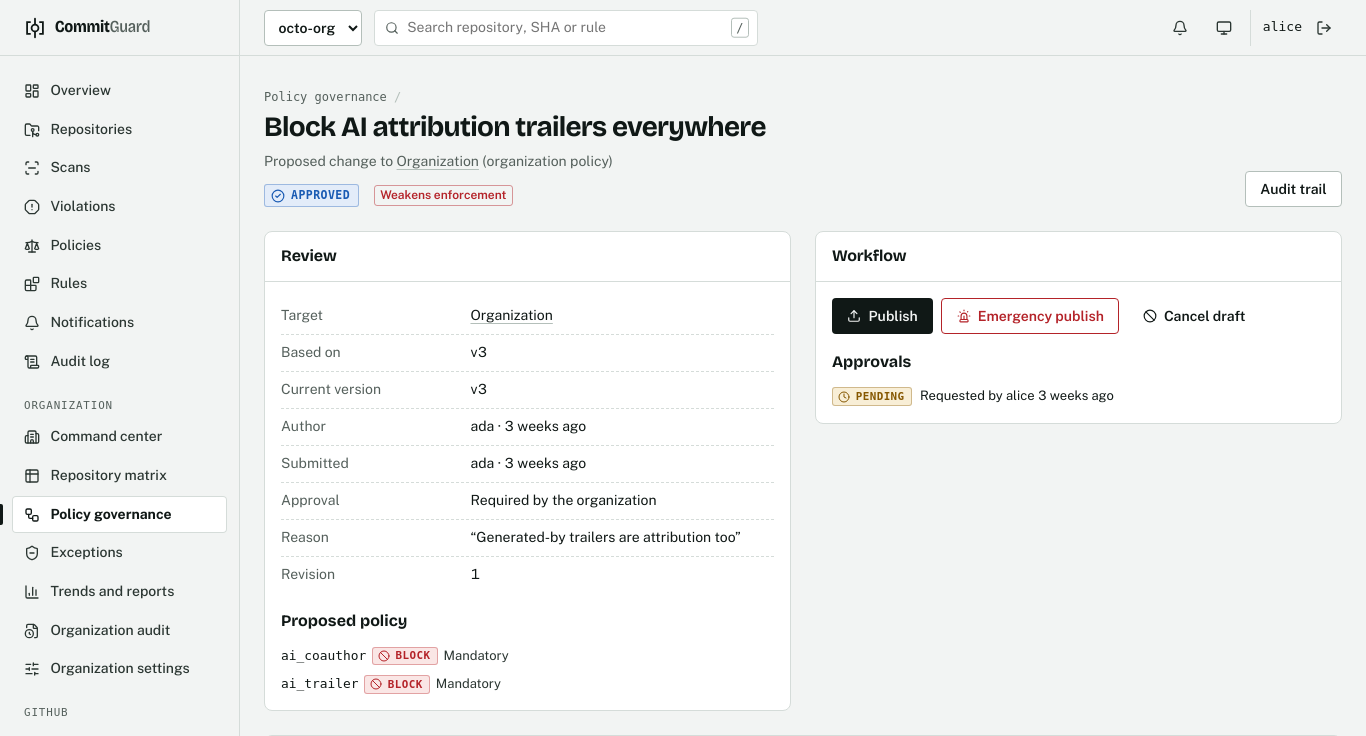
Scenario: policy draft review › requires explicit confirmation to publish a weakening change
Click the button "Publish". click: (883,316)
box: [832,298,933,334]
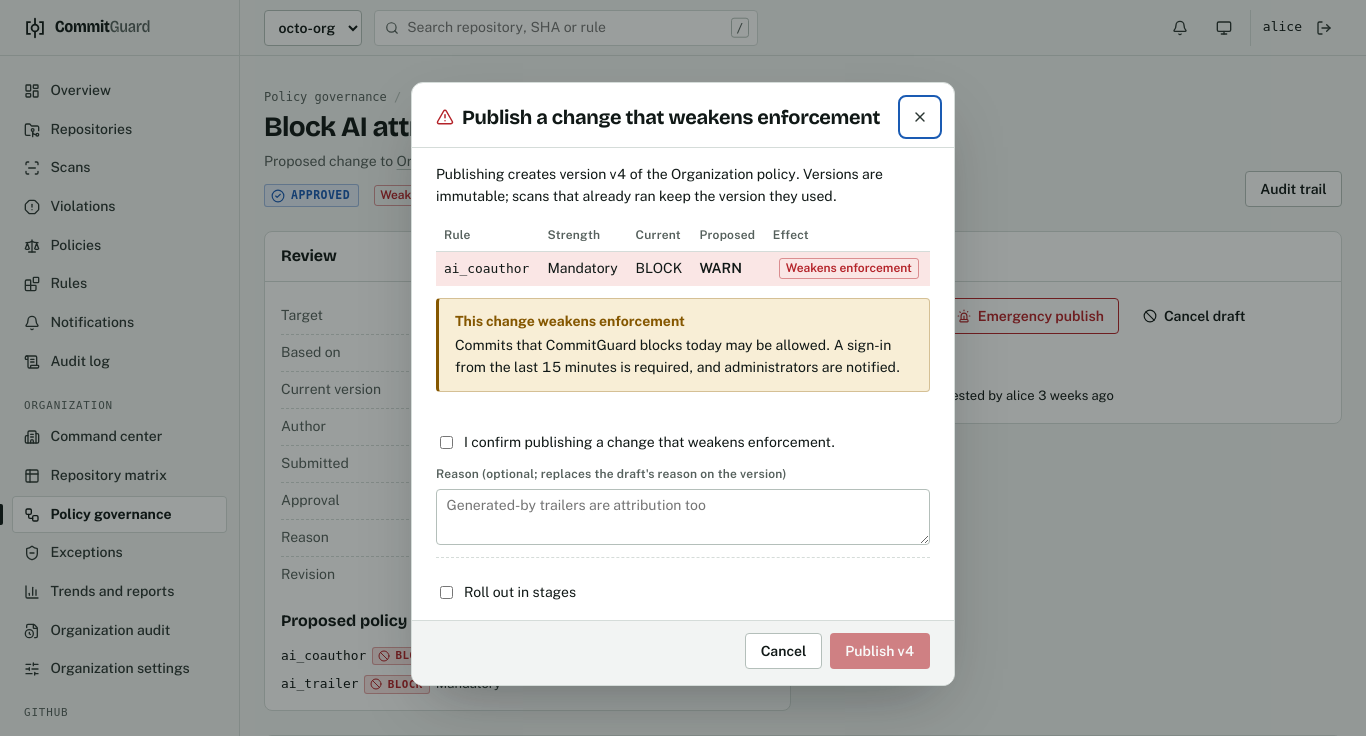
Expected: the text "Weakens enforcement" is shown, [779,258,918,279]
Expected: the button "Publish v4" is disabled, [830,633,930,669]
Click the checkbox labelled "I confirm publishing a change that weakens enforcement.". click: (446,442)
box: [440,436,453,449]
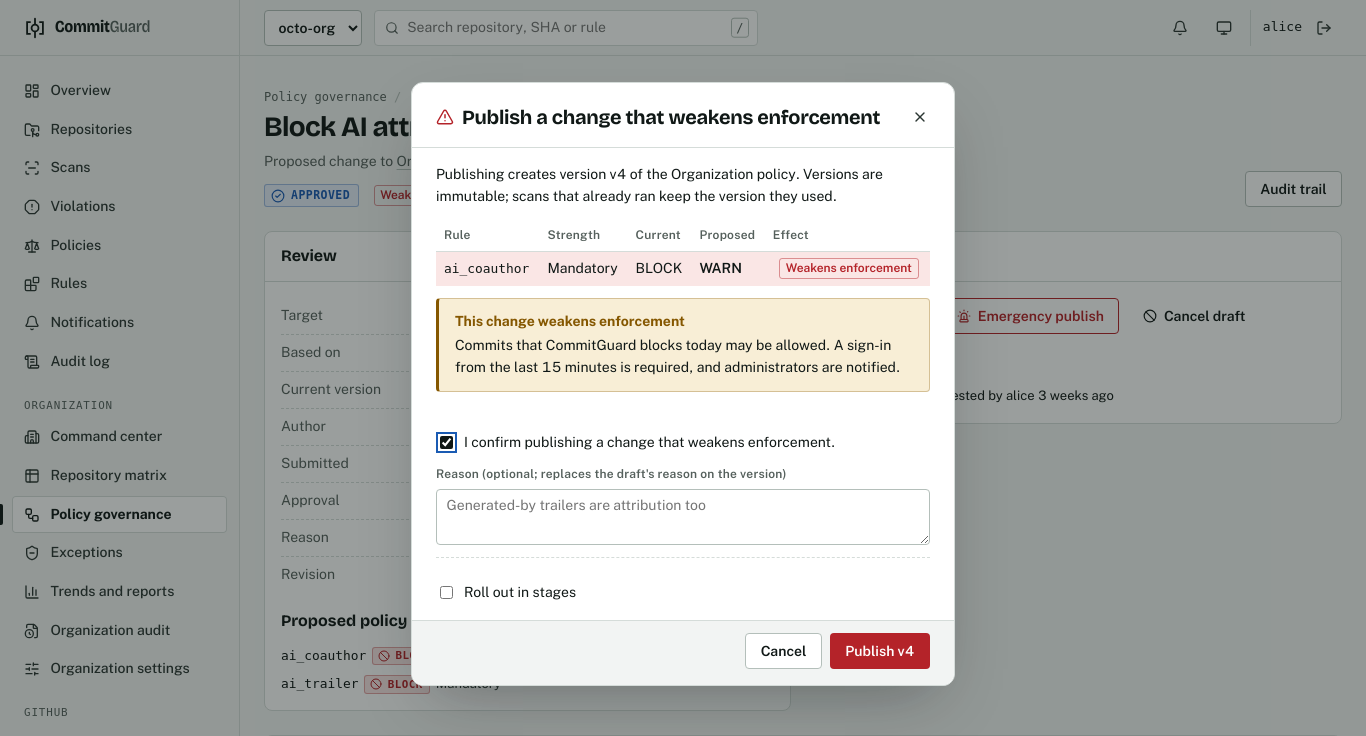
Click the button "Publish v4". click: (880,651)
box: [830,633,930,669]
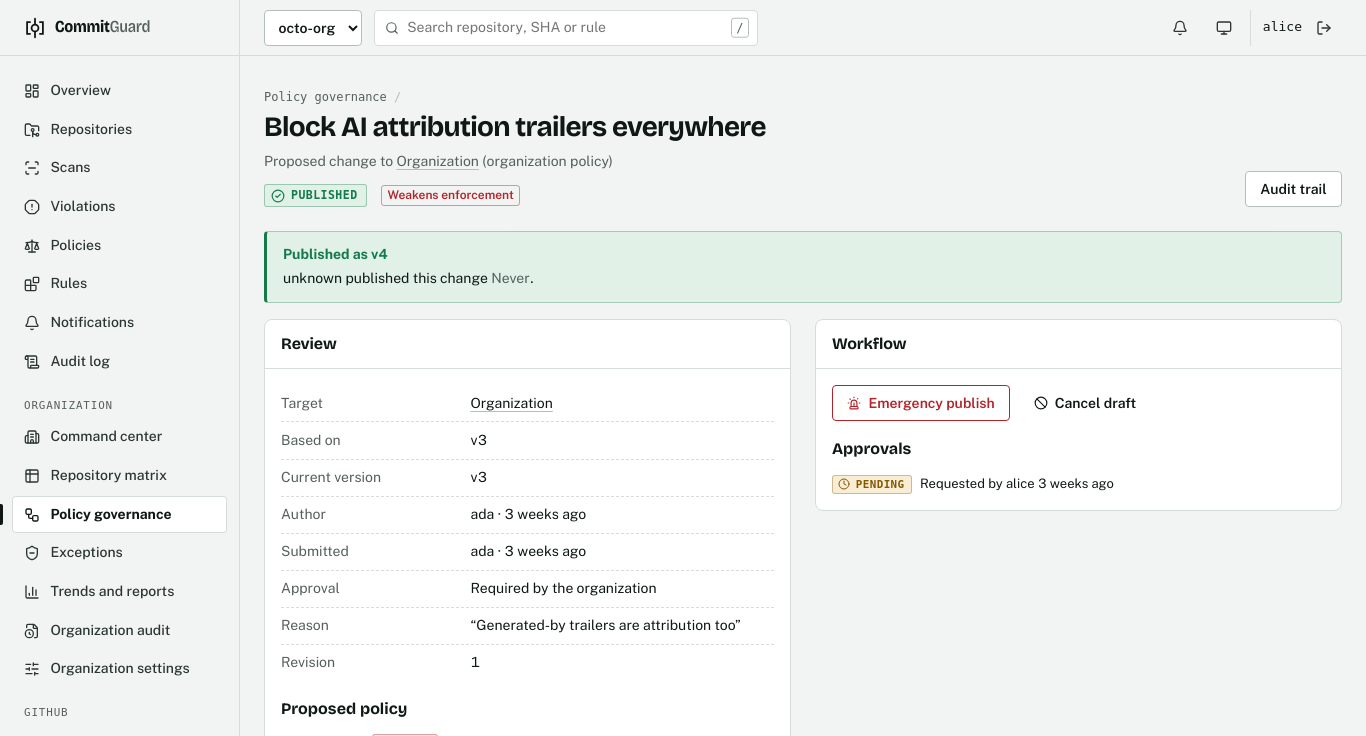
Expected: the text "Published as v4" is shown, [283,246,388,262]
